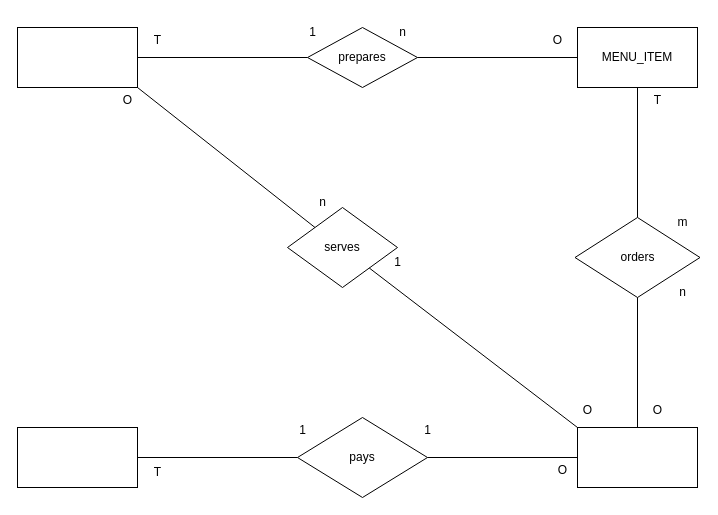
Image size: 718x515. Some labels were removed from this diagram. The shapes that lost their labels are listed below. From the top down, each one's centre as x and y in pixels, then its label:
At [77,57]: "EMPLOYEE".
At [77,457]: "BILL".
At [637,457]: "TABLE".
